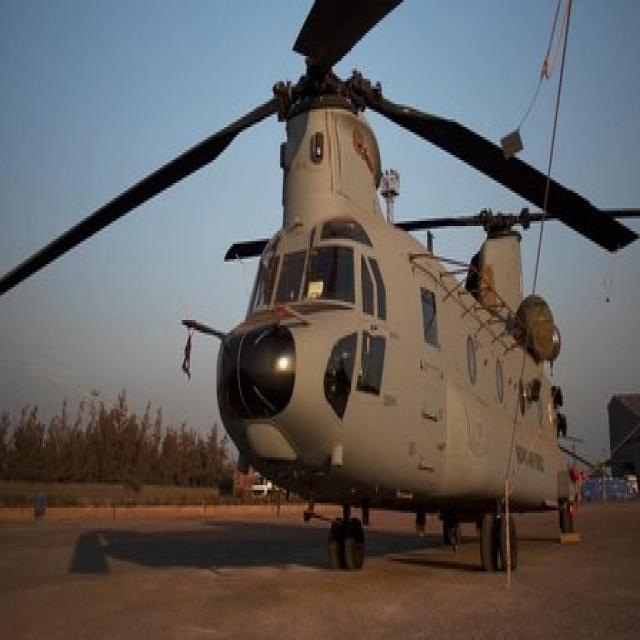helicopter: (1, 1, 640, 593)
